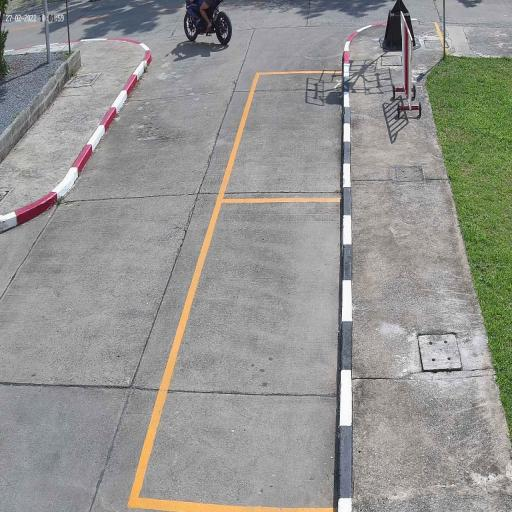motorcycle: (184, 0, 234, 47)
